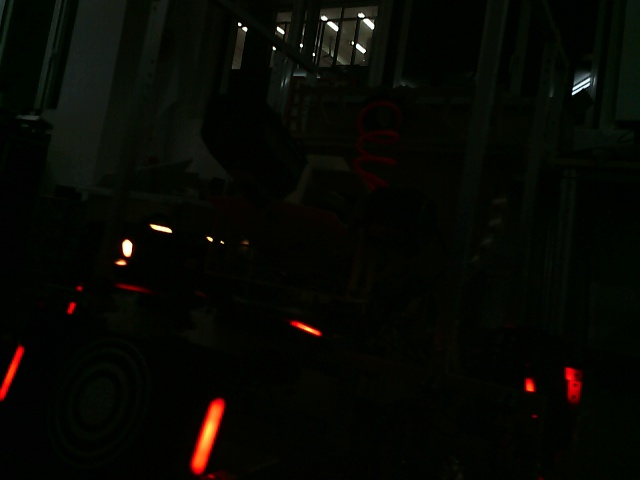lamp: (188, 394, 227, 475)
